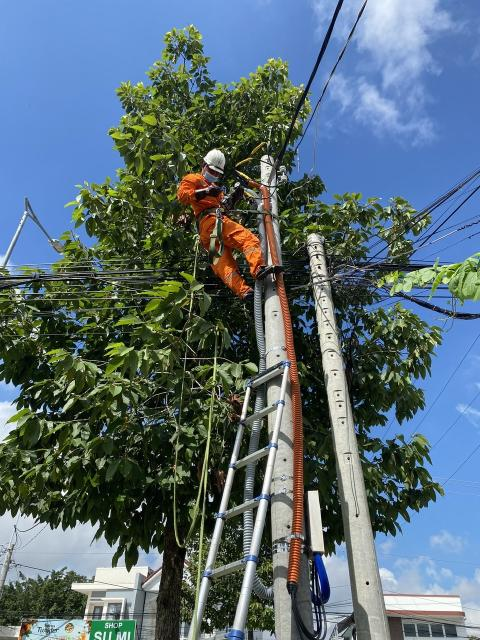gloves: (195, 185, 226, 205)
harness: (188, 202, 239, 221)
helmet: (202, 149, 236, 174)
shoes: (240, 286, 273, 307), (254, 258, 286, 279)
